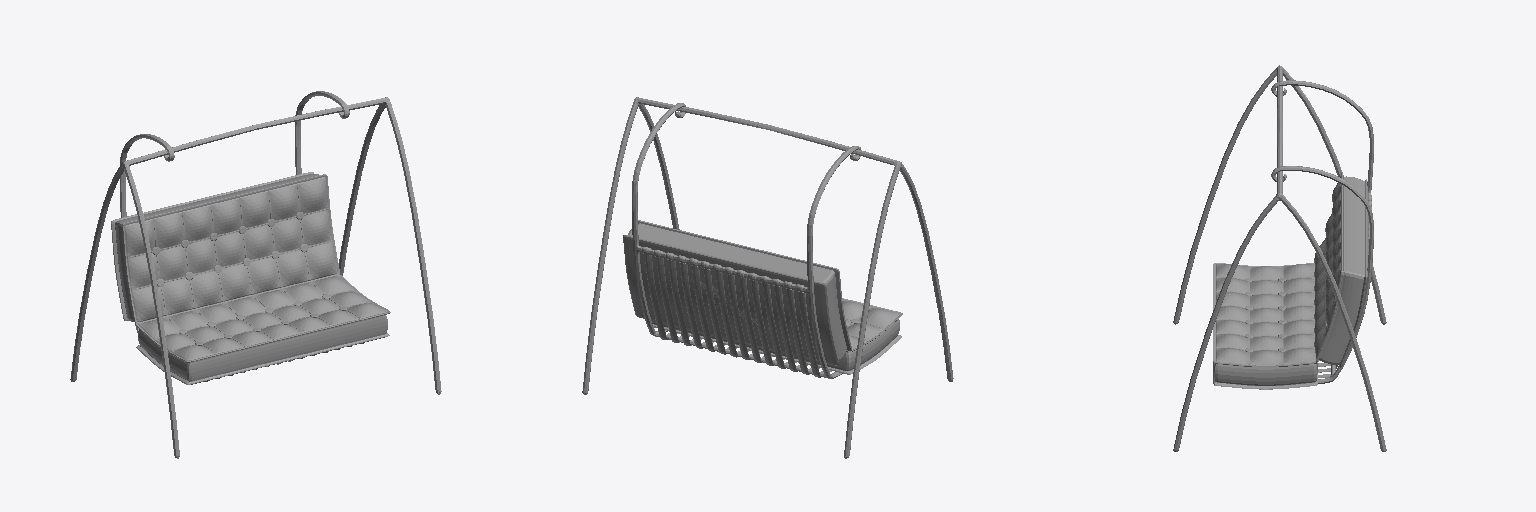
File: swingcushion.obj
3 renders of one model, left to right at view 1: azimuth 30°, elevation 25°; view 2: azimuth 150°, elevation 25°; view 3: azimuth 270°, elevation 25°, orthographic.
Parts seen in each view (by area): view 1: swing_Plane; view 2: swing_Plane; view 3: swing_Plane.
Part boxes in pixels (bbox=[...]): swing_Plane: bbox=[70, 91, 441, 458]; swing_Plane: bbox=[582, 97, 953, 458]; swing_Plane: bbox=[1173, 65, 1386, 451].
Size of the model in its own units: 18.55 by 17.62 by 12.85.